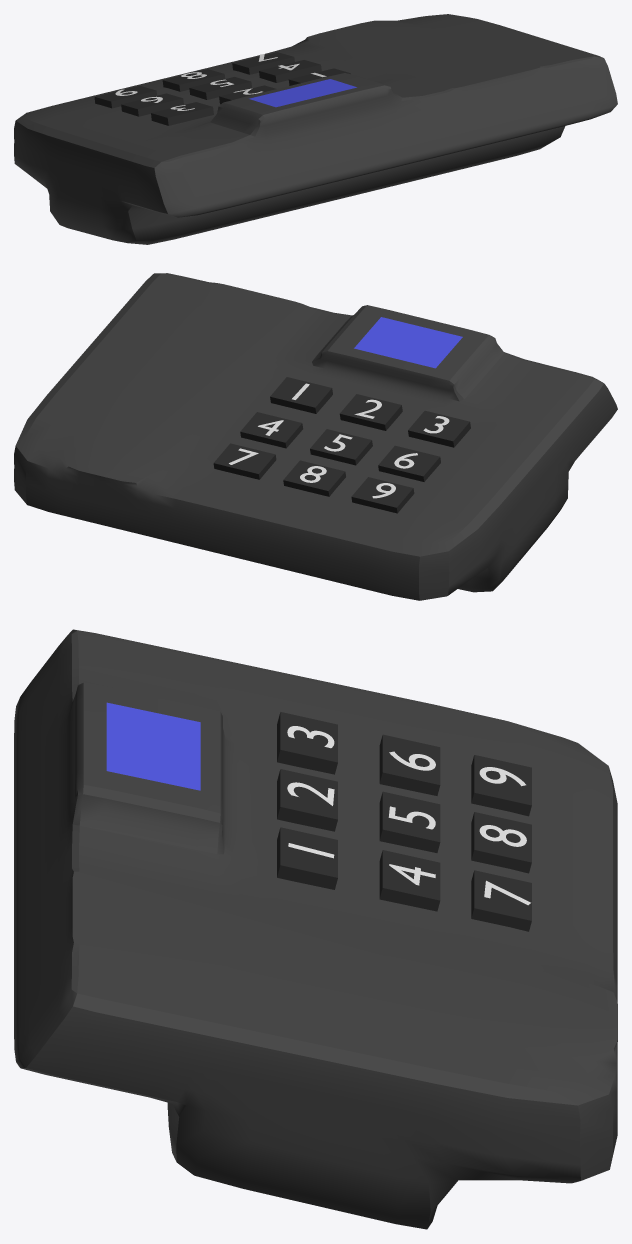
File: Telefone Fixo.fbx
3 renders of one model, top to bottom at view 1: azimuth 30°, elevation 25°; view 2: azimuth 150°, elevation 25°; view 3: azimuth 270°, elevation 25°, orthographic. The views are drawn at different scales.
Visible parts, largest first — view 1: Cube, Cube.003, Cube.010; view 2: Cube, Cube.003, Cube.010; view 3: Cube, Cube.003, Cube.010.
Part boxes in pixels (x1,y1,x2,y2): Cube: (14, 14, 617, 244); Cube.003: (94, 52, 350, 125); Cube.010: (249, 79, 356, 107); Cube: (14, 273, 617, 600); Cube.003: (213, 377, 470, 513); Cube.010: (354, 317, 462, 368); Cube: (14, 629, 617, 1229); Cube.003: (277, 712, 531, 931); Cube.010: (106, 702, 200, 790).
Size of the model in its own units: 640 by 222 by 428.
